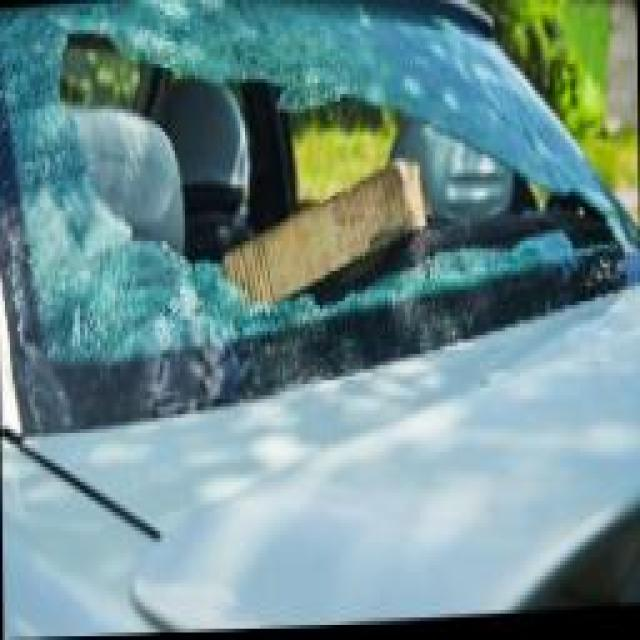Windshield: (0, 0, 635, 422)
